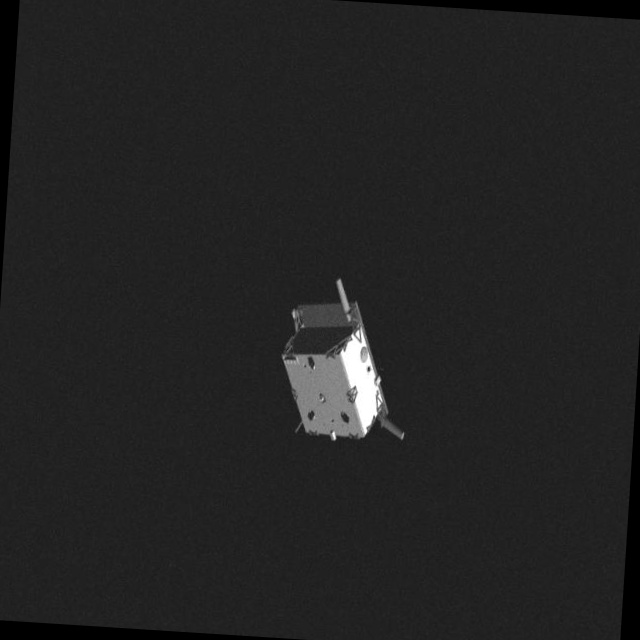satellite: (263, 275, 422, 464)
